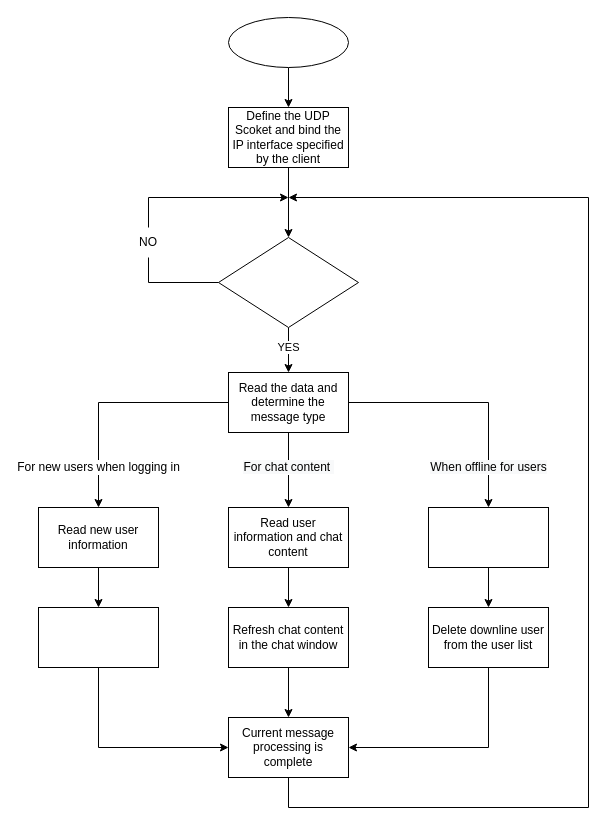
This 614x833 diagram has some shape labels left out. Here are the shapes that lost their labels. From the top down, the centre of each, then its label:
point 288,42: Begin
point 288,282: Does the interface have messages to read
point 488,537: Retrieve downline user information
point 98,637: Adding new user information to the user list
